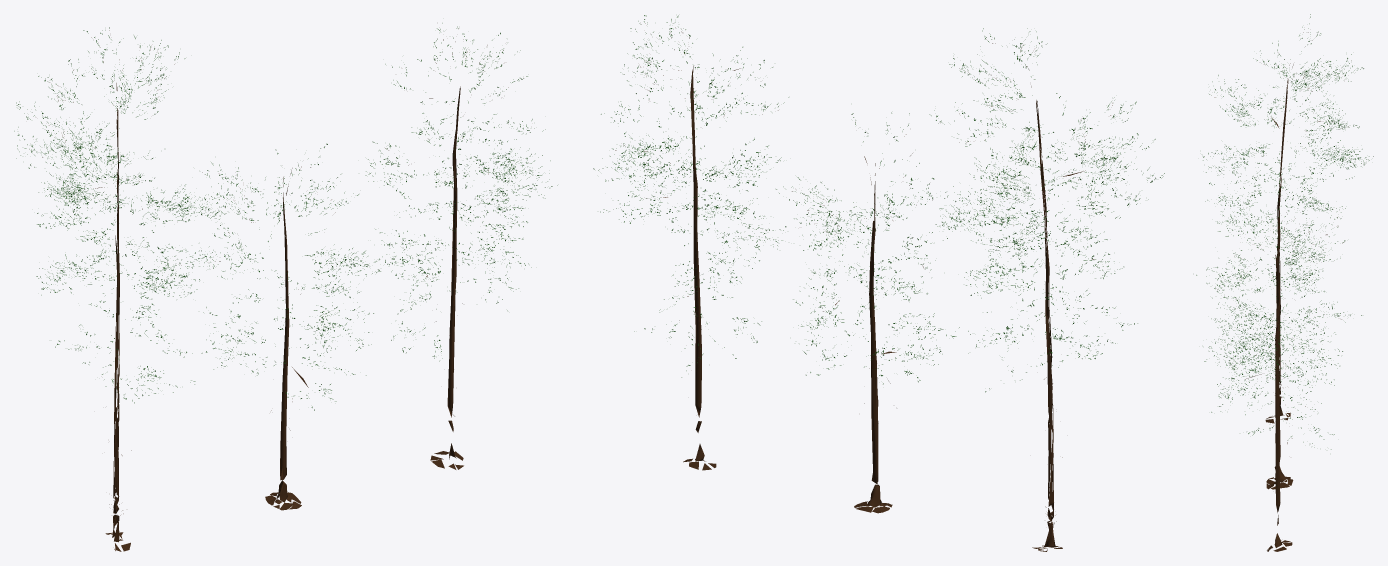
Rendered from mature_pine_realistic.obj.
3 views of the same model, side by side, from view 1: azimuth 30°, elevation 25°; view 2: azimuth 150°, elevation 25°; view 3: azimuth 270°, elevation 25° (orthographic). The views are drawn at different scales.
Parts seen in each view (by area): view 1: part_3__pine_tree_01_twig, part_6__pine_tree_01_trunk_a, part_2__pine_tree_01_trunk_c, part_5__pine_tree_01_trunk_b; view 2: part_3__pine_tree_01_twig, part_6__pine_tree_01_trunk_a, part_2__pine_tree_01_trunk_c, part_5__pine_tree_01_trunk_b; view 3: part_3__pine_tree_01_twig, part_2__pine_tree_01_trunk_c, part_6__pine_tree_01_trunk_a, part_5__pine_tree_01_trunk_b.
Boxes of the visible parts, x1,y1,x2,y2 form: part_3__pine_tree_01_twig: (14,23,557,410); part_6__pine_tree_01_trunk_a: (105,106,130,551); part_2__pine_tree_01_trunk_c: (430,86,463,469); part_5__pine_tree_01_trunk_b: (265,192,301,510); part_3__pine_tree_01_twig: (593,15,1164,392); part_6__pine_tree_01_trunk_a: (1032,100,1062,551); part_2__pine_tree_01_trunk_c: (683,66,716,470); part_5__pine_tree_01_trunk_b: (854,181,892,513); part_3__pine_tree_01_twig: (1196,14,1373,449); part_2__pine_tree_01_trunk_c: (1267,255,1292,551); part_6__pine_tree_01_trunk_a: (1265,78,1290,423); part_5__pine_tree_01_trunk_b: (1266,238,1293,489).
Size of the model in its own units: 21.61 by 20.17 by 8.21.
